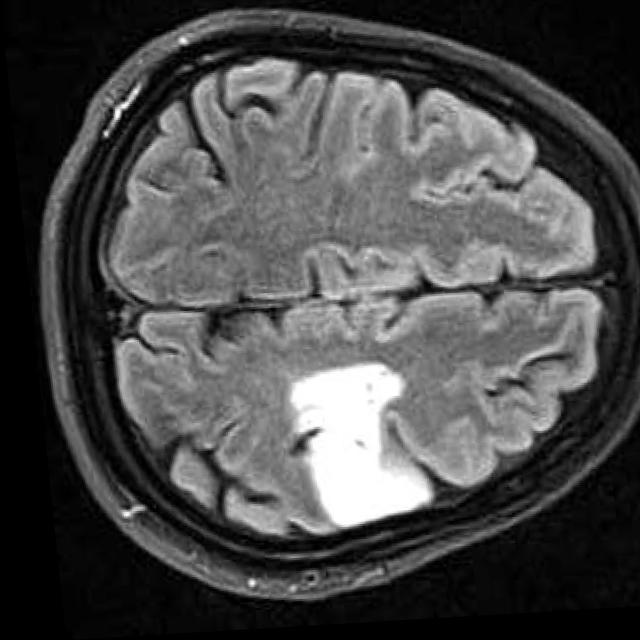Tumor: (282, 369, 419, 534)
